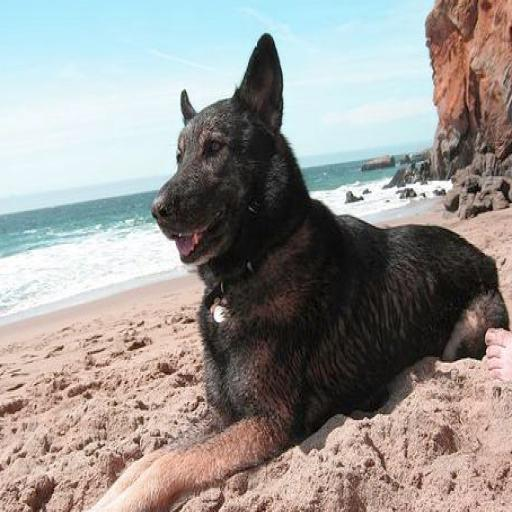dog_face: (154, 32, 300, 262)
